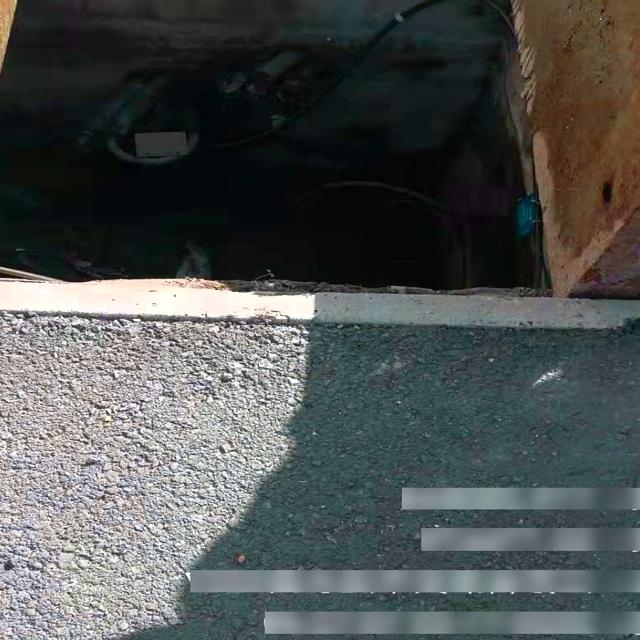uncovered: (0, 0, 640, 324)
